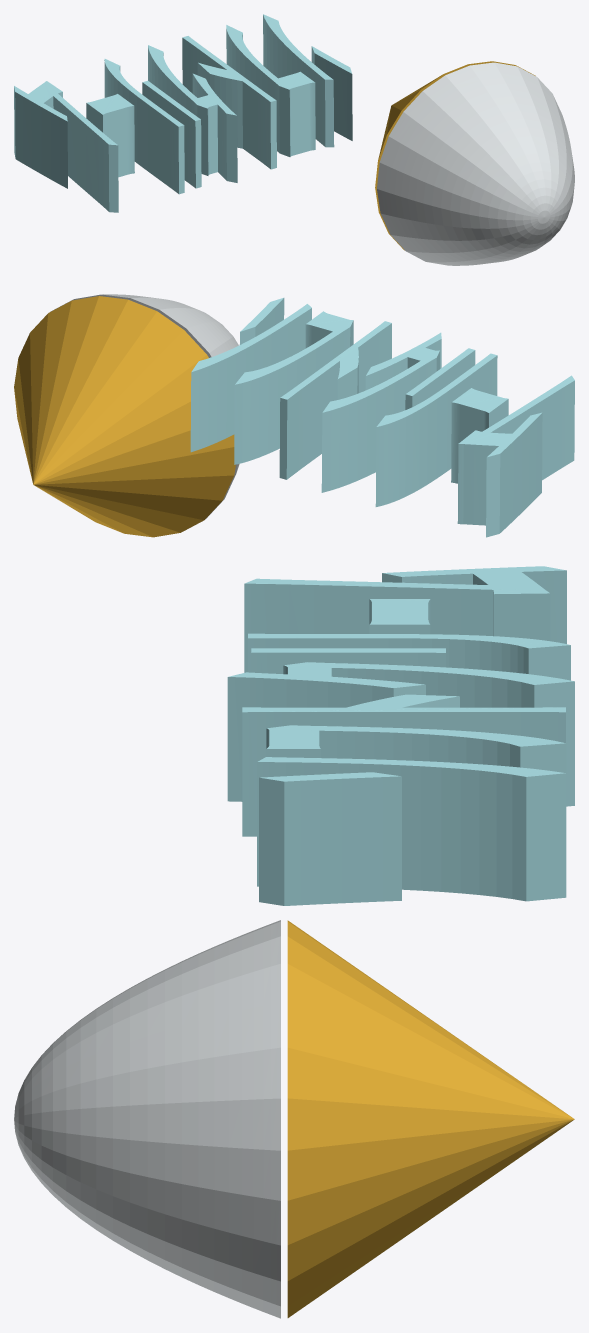
Rendered from tinker.obj.
The picture shows the model from 3 angles, top to bottom: view 1: azimuth 30°, elevation 25°; view 2: azimuth 150°, elevation 25°; view 3: azimuth 270°, elevation 25°; orthographic projection. The views are drawn at different scales.
Visible parts, largest first — view 1: group_0_11593967, group_0_14541540, group_0_14789940; view 2: group_0_11593967, group_0_14789940, group_0_14541540; view 3: group_0_11593967, group_0_14541540, group_0_14789940.
Part boxes in pixels (x1,y1,x2,y2): group_0_11593967: (14, 14, 352, 212); group_0_14541540: (377, 62, 574, 265); group_0_14789940: (375, 61, 535, 250); group_0_11593967: (190, 297, 574, 537); group_0_14789940: (14, 296, 235, 537); group_0_14541540: (50, 294, 239, 518); group_0_11593967: (227, 566, 574, 905); group_0_14541540: (14, 920, 280, 1318); group_0_14789940: (287, 920, 574, 1317).
Size of the model in its own units: 38 by 17 by 21.
